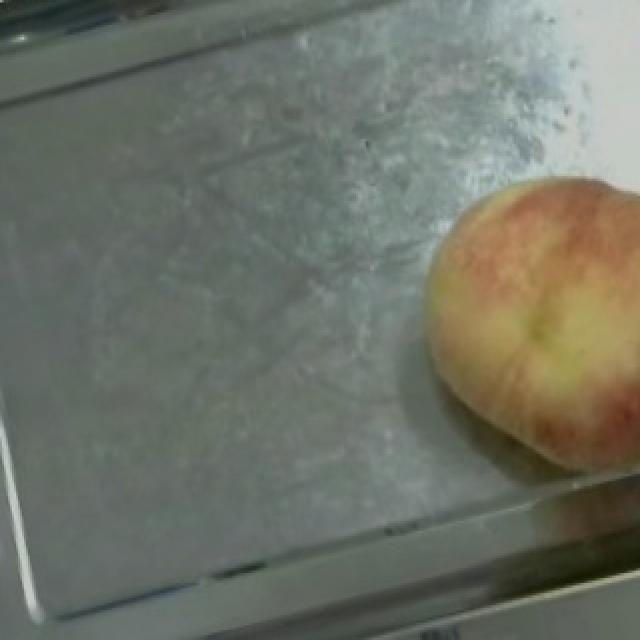Fruit: (380, 146, 640, 508)
